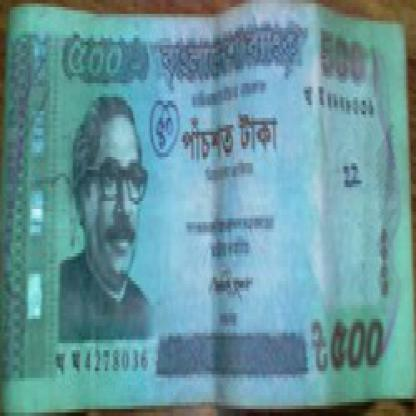500 taka: (62, 35, 132, 90)
currency: (8, 25, 408, 382)
